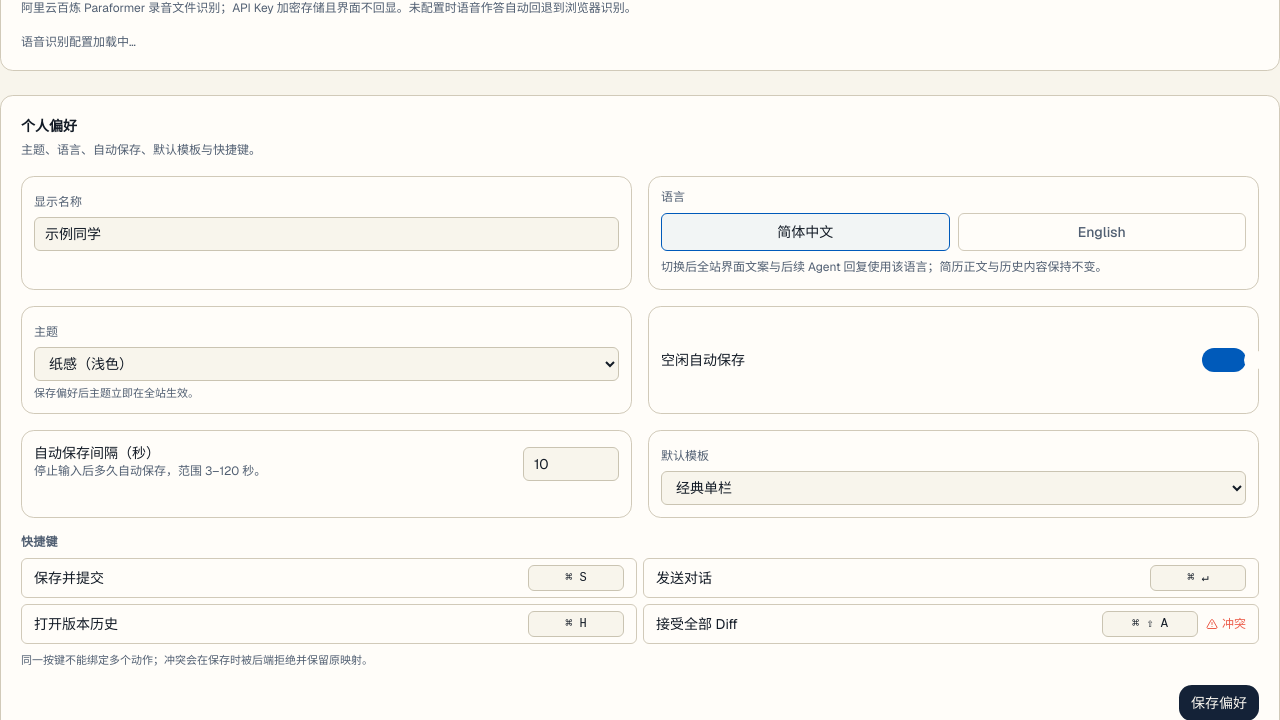
SettingsForm › 保存偏好后显示已保存
The width and height of the screenshot is (1280, 720).
(page scrolled)
Click the switch named "自动保存": (1224, 360) 1202,348 -> 1246,372
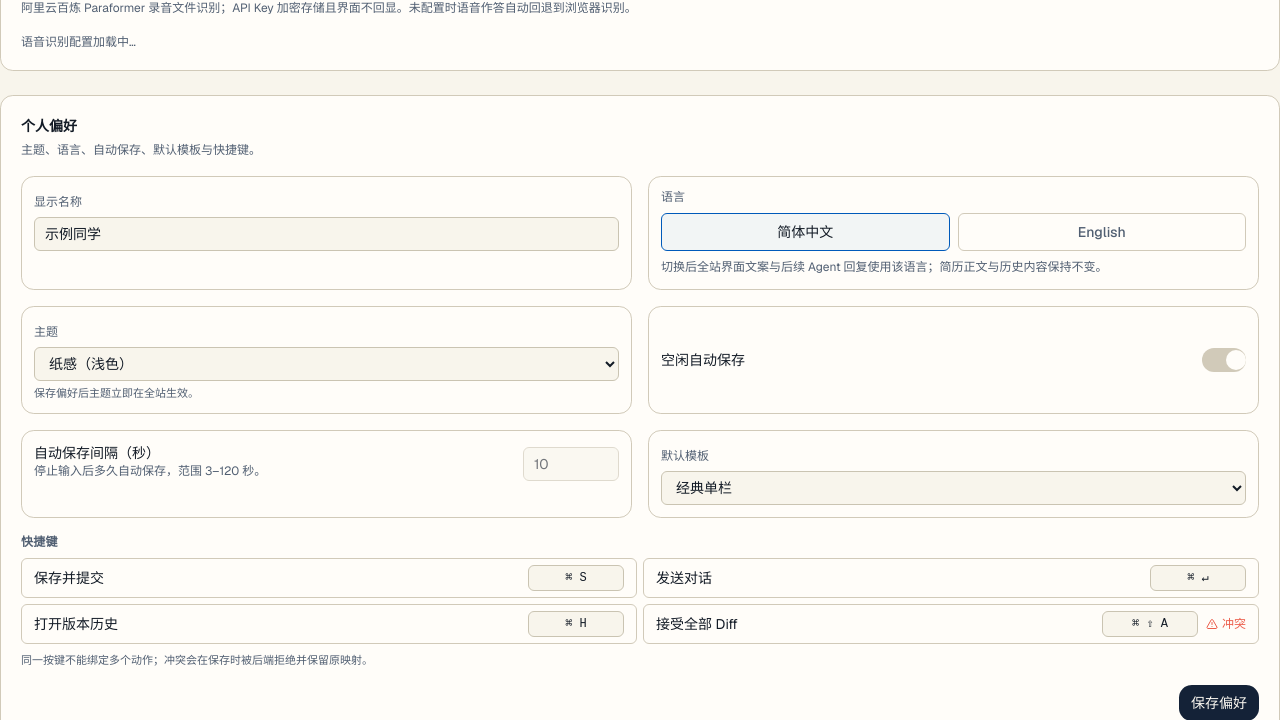
Click the button "保存偏好": (1219, 702) 1179,684 -> 1259,719
(page scrolled)
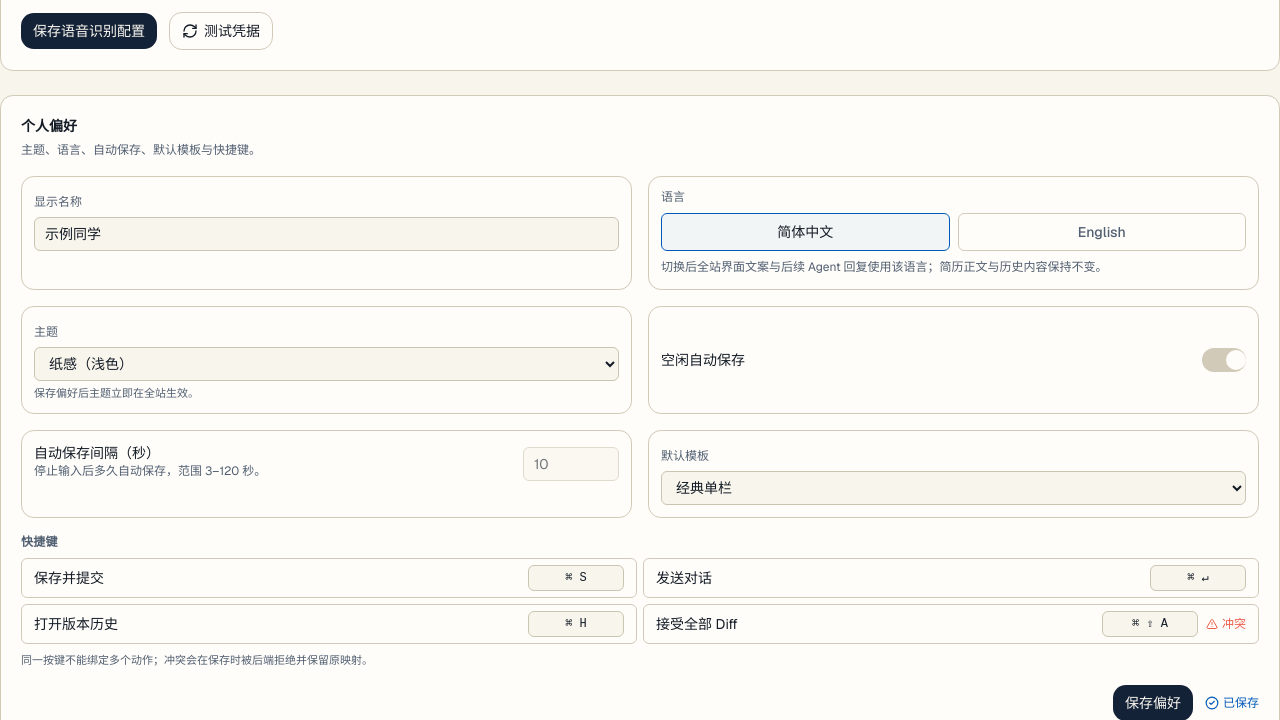
Expected: the text "已保存" is shown, 1205,694 -> 1259,710
